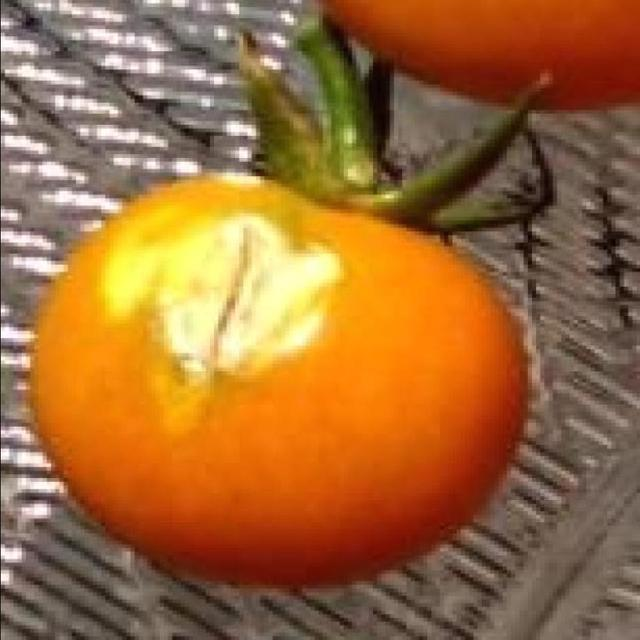Sunscald Fruit: (46, 126, 253, 298)
